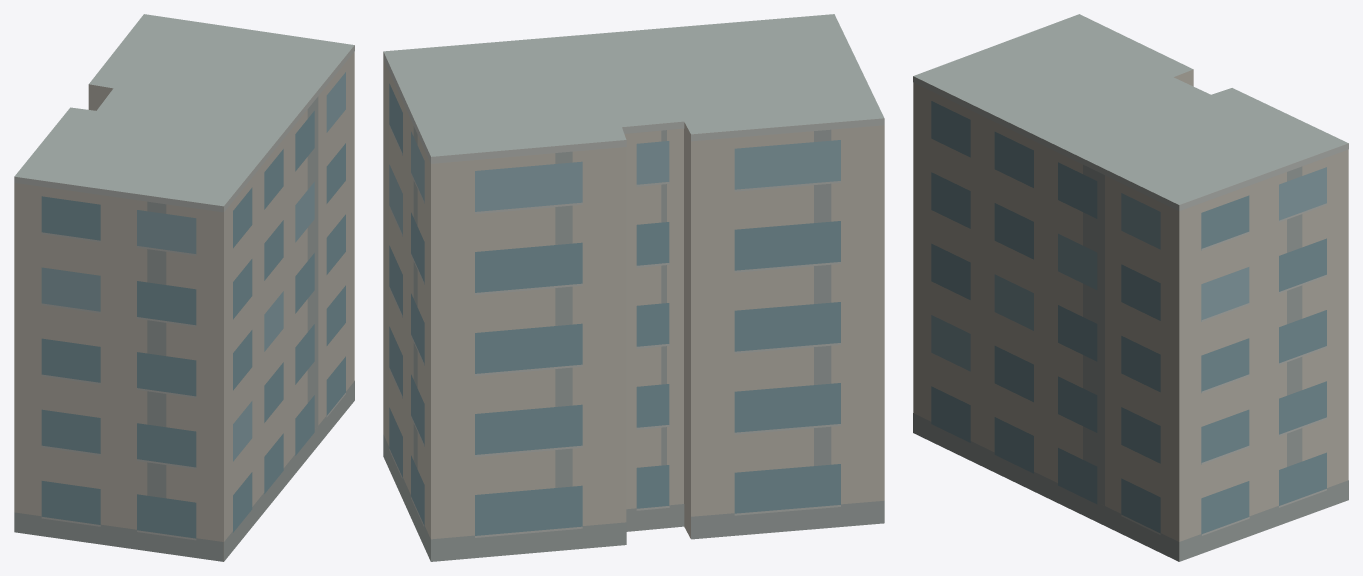
File: survey-upis-32626696.glb
3 renders of one model, left to right at view 1: azimuth 30°, elevation 25°; view 2: azimuth 150°, elevation 25°; view 3: azimuth 270°, elevation 25°, orthographic. The views are drawn at different scales.
Visible parts, largest first — view 1: survey-upis-32626696.tmp; view 2: survey-upis-32626696.tmp; view 3: survey-upis-32626696.tmp.
Boxes of the visible parts, <box> form: survey-upis-32626696.tmp: <box>14,14,354,561</box>; survey-upis-32626696.tmp: <box>383,14,884,561</box>; survey-upis-32626696.tmp: <box>913,14,1348,561</box>.
Bounding box in the file's own units: 16.26 × 14.15 × 15.67.
